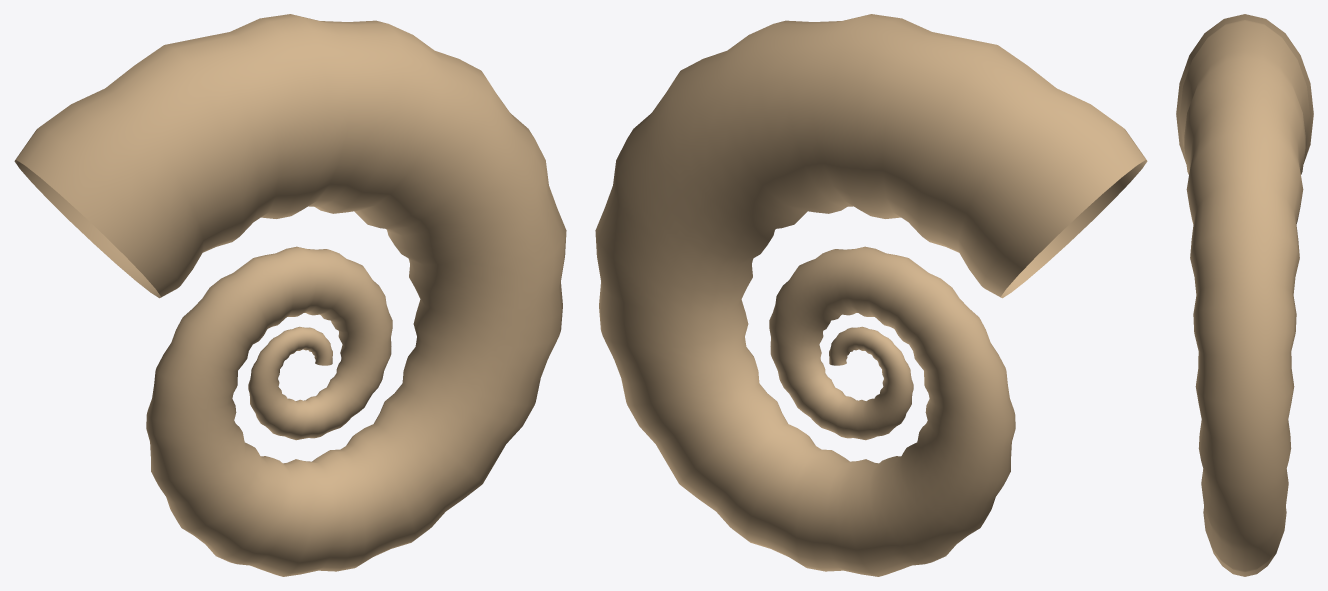
Rendered from ammonite.glb.
3 views of the same model, side by side, from view 1: azimuth 30°, elevation 25°; view 2: azimuth 150°, elevation 25°; view 3: azimuth 270°, elevation 25° (orthographic). The views are drawn at different scales.
Visible parts, largest first — view 1: rim, chambers, core; view 2: rim, chambers, core; view 3: rim.
Boxes of the visible parts, left/top/right/bottom form: rim: left=14, top=14, right=566, bottom=576; chambers: left=146, top=246, right=392, bottom=491; core: left=248, top=326, right=332, bottom=440; rim: left=595, top=14, right=1147, bottom=576; chambers: left=769, top=246, right=1015, bottom=491; core: left=829, top=326, right=913, bottom=440; rim: left=1176, top=14, right=1313, bottom=576.
Bounding box in the file's own units: 1.83 × 1.84 × 0.483.
